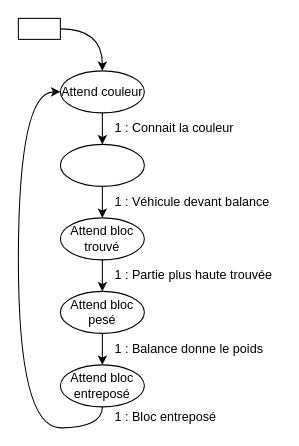
Image size: 299x446. Some labels were removed from this diagram. Each missing label, with the box of its shape:
Attend véhicule: (59, 143, 144, 186)
Init: (17, 17, 60, 39)
